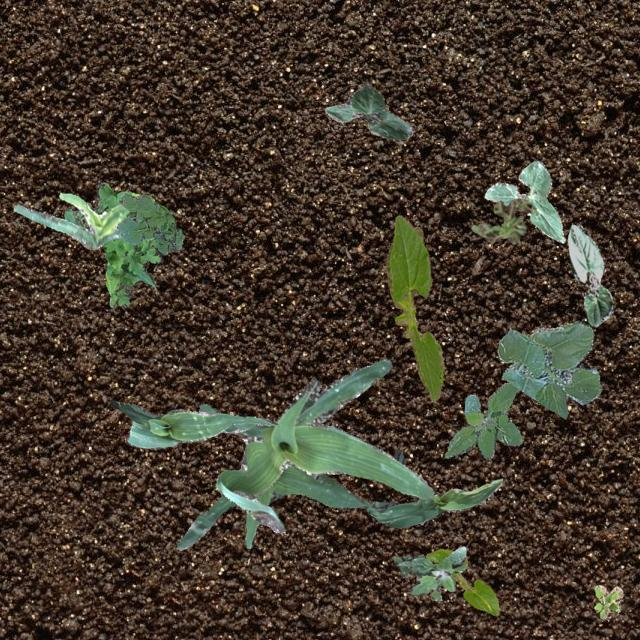crop: (198, 358, 434, 534), (174, 464, 393, 550), (366, 448, 502, 526), (386, 215, 442, 402), (496, 320, 600, 418), (108, 400, 276, 448), (484, 160, 564, 242), (12, 192, 128, 248), (324, 80, 412, 138), (425, 548, 499, 614), (566, 224, 612, 326)
weed: (64, 182, 160, 308), (444, 382, 522, 458), (392, 544, 466, 600), (116, 194, 184, 253), (470, 198, 534, 244), (594, 584, 622, 618)
